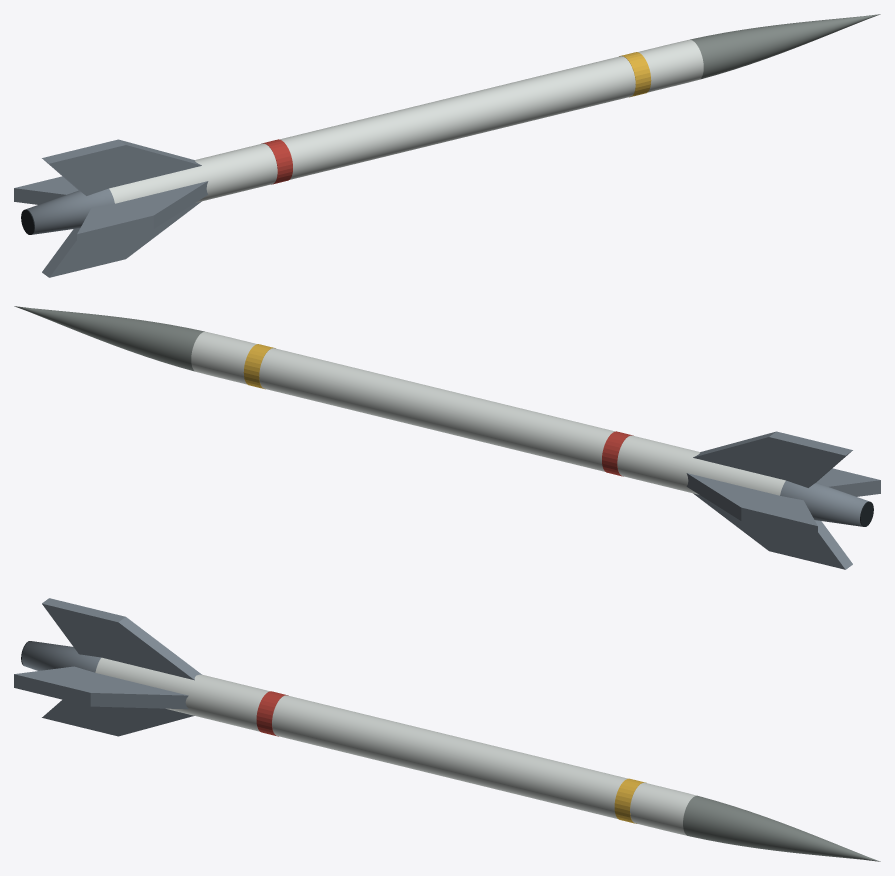
The model's file is aim9x_family.glb.
The picture shows the model from 3 angles, top to bottom: view 1: azimuth 30°, elevation 25°; view 2: azimuth 150°, elevation 25°; view 3: azimuth 330°, elevation 25°; orthographic projection.
Visible parts, largest first — view 1: aim9x_family; view 2: aim9x_family; view 3: aim9x_family.
Part boxes in pixels (<box>): aim9x_family: <box>14,14,880,277</box>; aim9x_family: <box>14,306,880,569</box>; aim9x_family: <box>14,598,880,861</box>.
Bounding box in the file's own units: 10 × 1.28 × 1.28.
